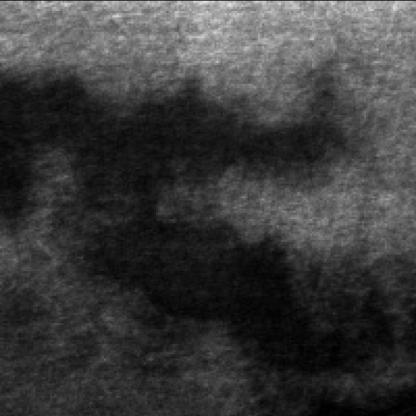patches: (109, 224, 400, 382), (4, 90, 350, 210)
